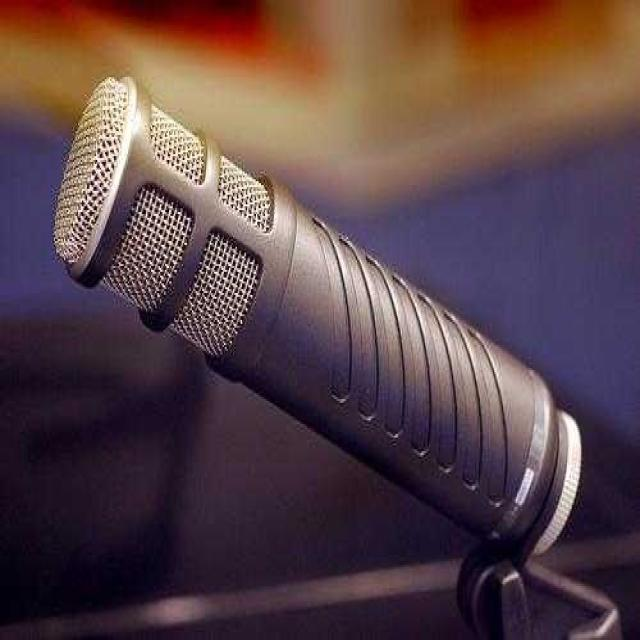microphone: (62, 75, 572, 568)
